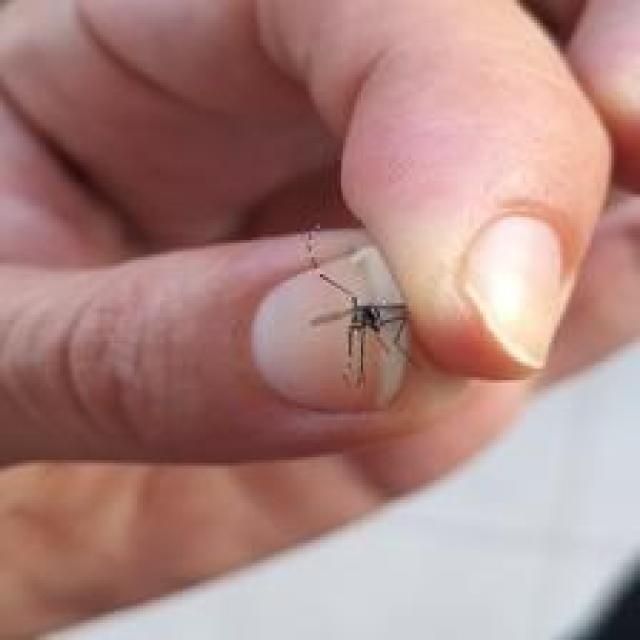Aedes albopictus: (308, 270, 412, 390)
